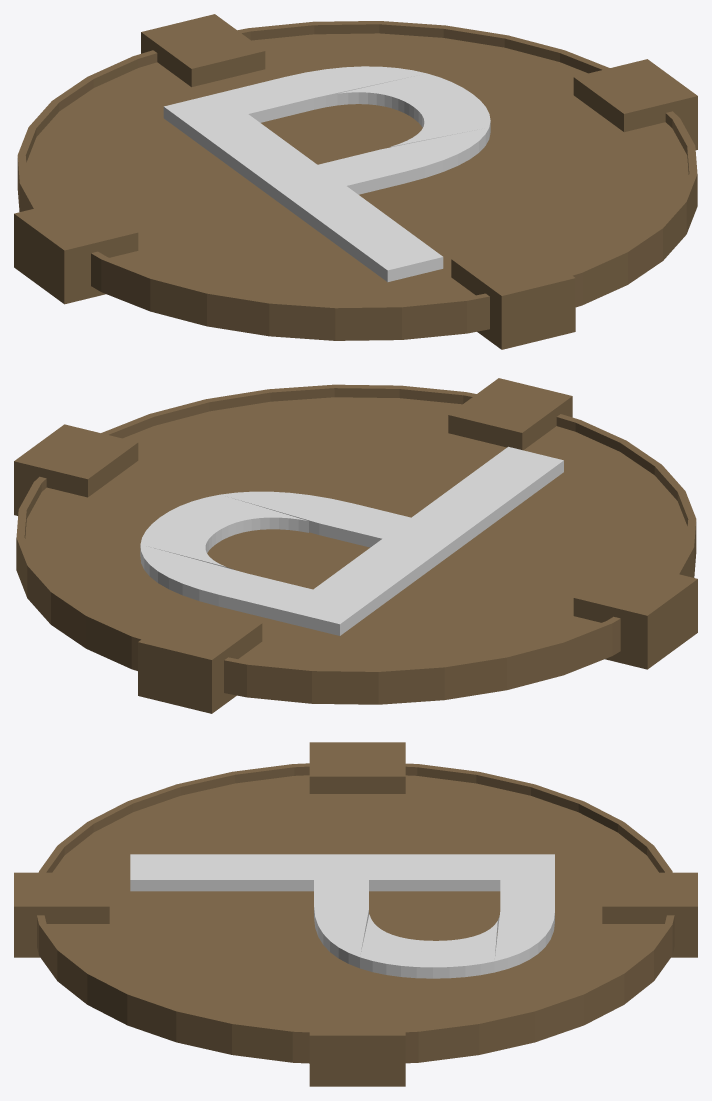
The model's file is AirplaneLanding.fbx.
The picture shows the model from 3 angles, top to bottom: view 1: azimuth 30°, elevation 25°; view 2: azimuth 150°, elevation 25°; view 3: azimuth 270°, elevation 25°; orthographic projection. The views are drawn at different scales.
Parts seen in each view (by area): view 1: Cylinder, Text; view 2: Cylinder, Text; view 3: Cylinder, Text.
Part boxes in pixels (x1,y1,x2,y2): Cylinder: [14, 14, 697, 349]; Text: [163, 66, 490, 282]; Cylinder: [14, 378, 697, 713]; Text: [140, 446, 563, 635]; Cylinder: [14, 742, 697, 1086]; Text: [130, 854, 554, 978].
Size of the model in its own units: 215 by 17.44 by 212.
